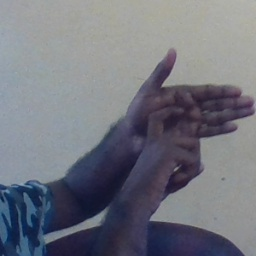R: (112, 45, 253, 203)
